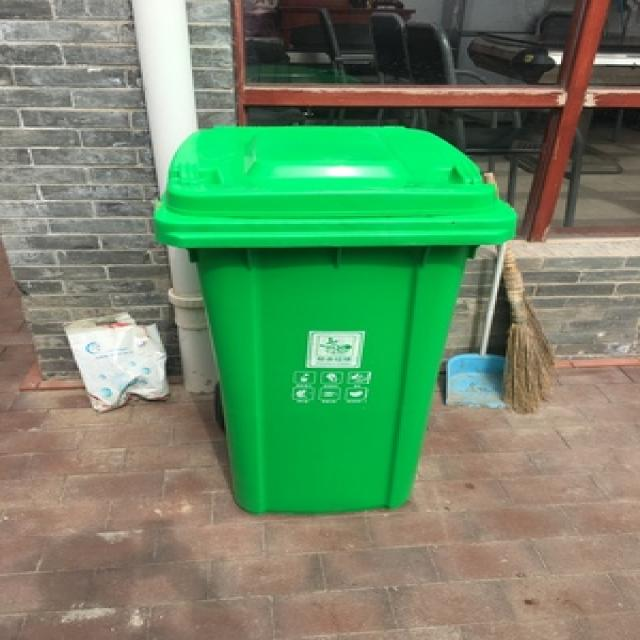ash bin: (152, 121, 516, 516)
